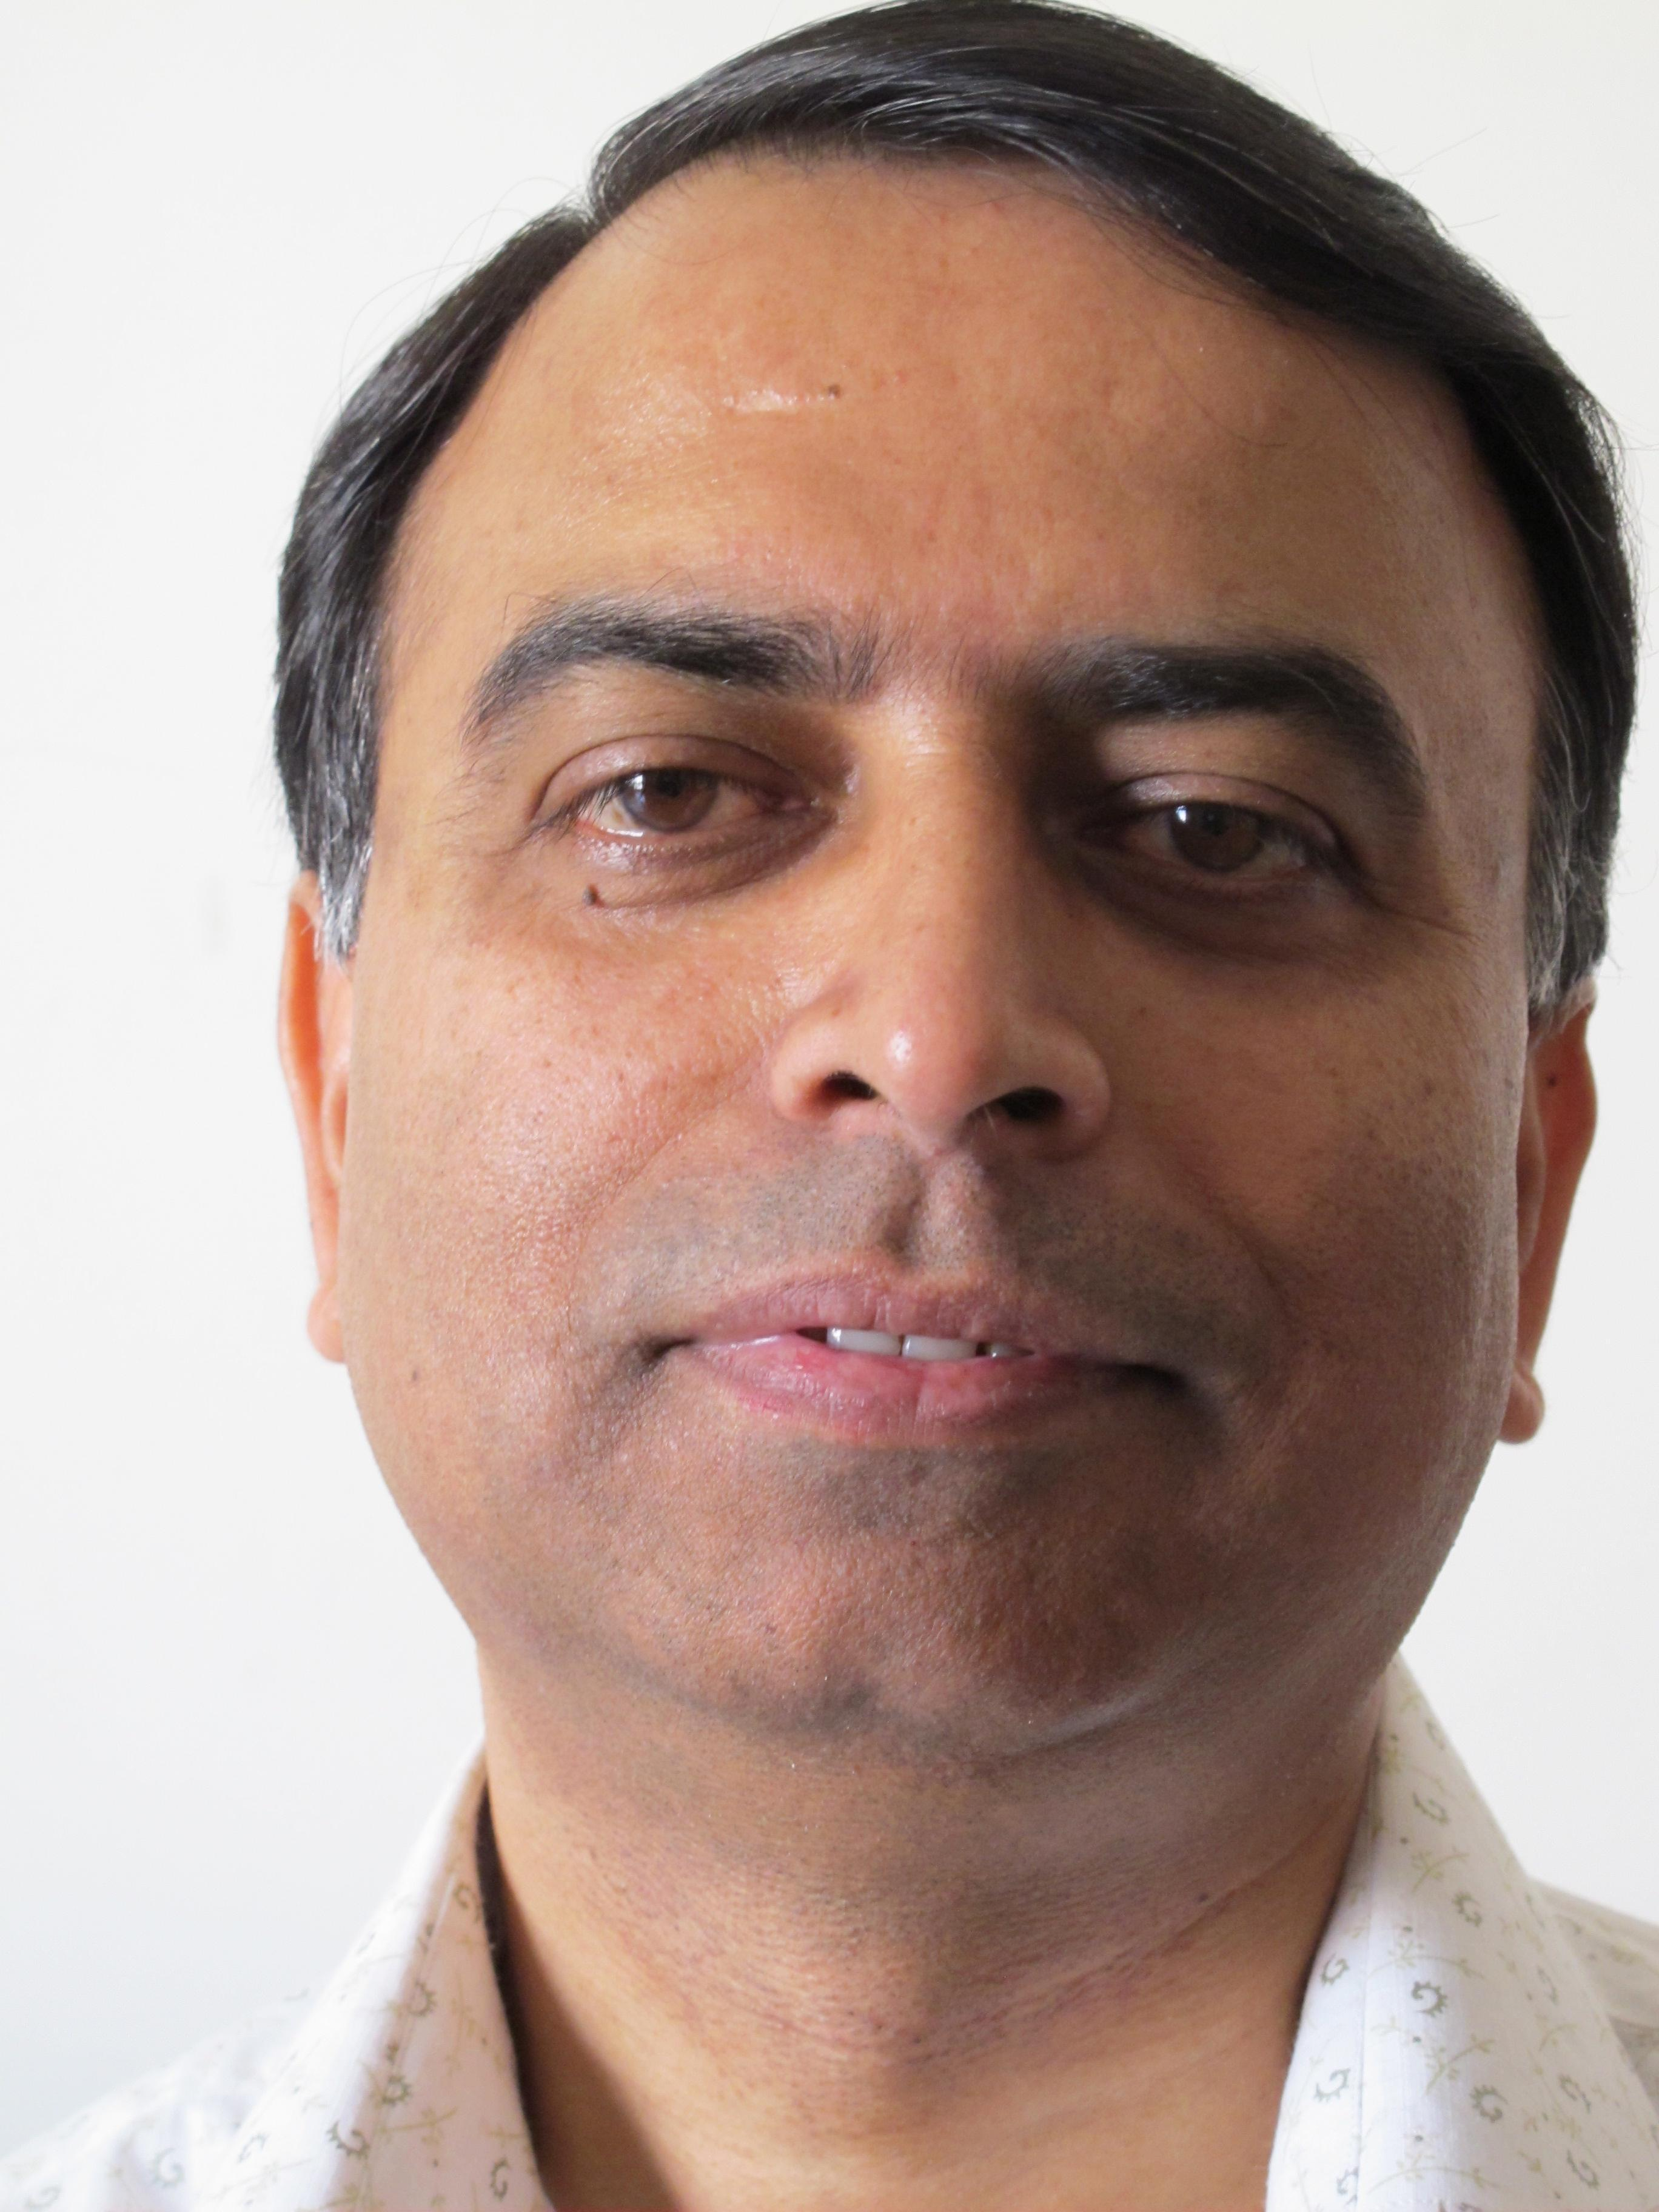Sober: (373, 286, 1499, 1710)
